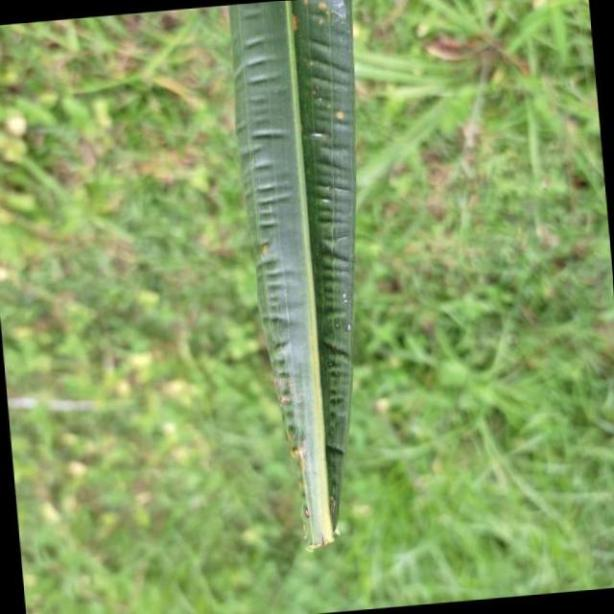Boron: (226, 0, 356, 560)
